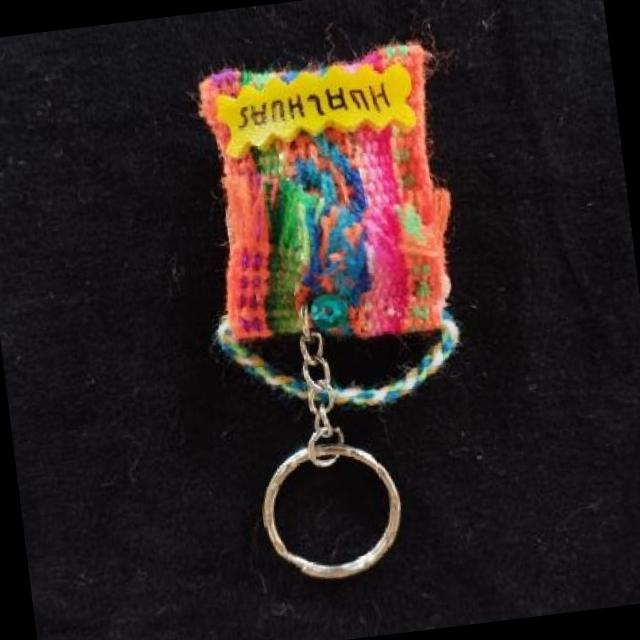Llavero: (182, 37, 476, 425)
